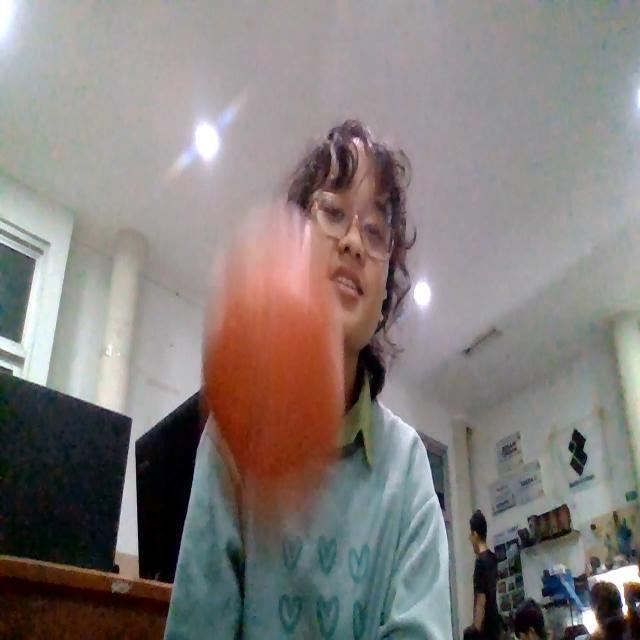ball: (206, 256, 336, 482)
